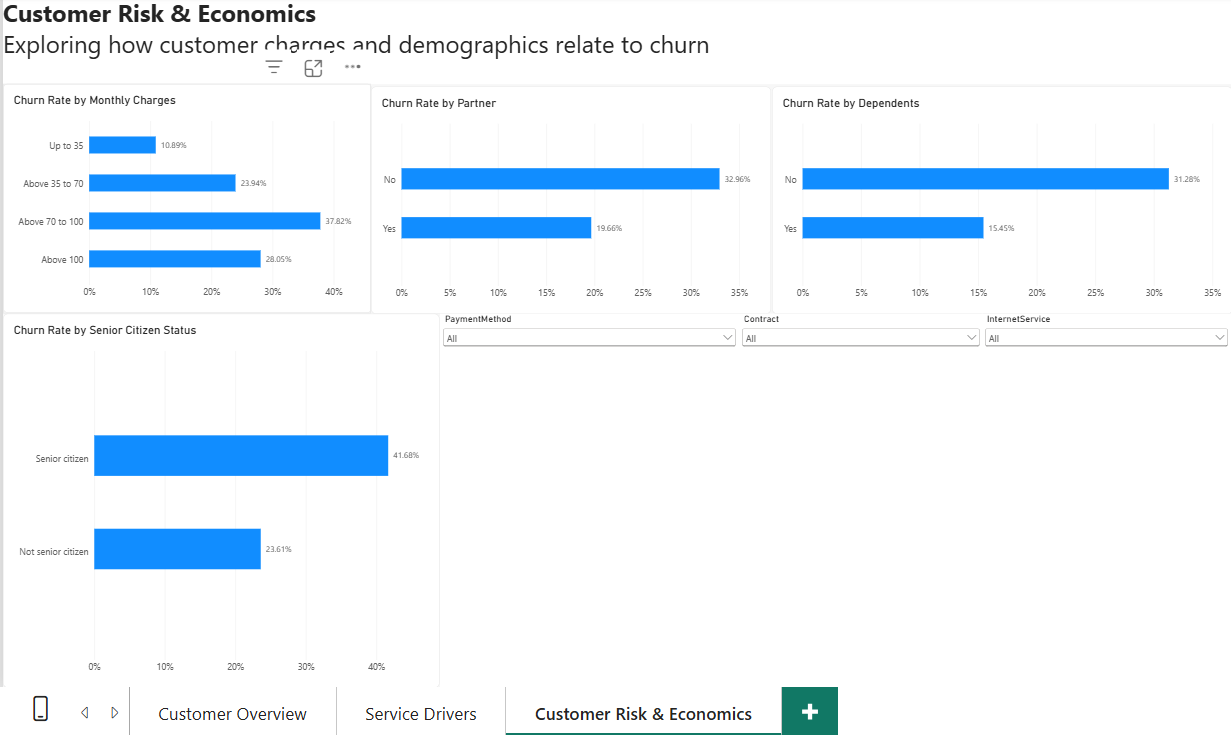

The dashboard page shown, as its layout file describes it:
{"tool":"powerbi","page":{"name":"Customer Risk & Economics","canvas":[1920,1080],"ordinal":2},"visuals":[{"type":"textbox","box":[0,0,1921.1,137.6],"z":0},{"type":"clusteredBarChart","title":"Churn Rate by Monthly Charges","fields":{"Category":["CustomerChurn.Monthly Charge Band"],"Y":["CustomerChurn.Churn Rate"]},"box":[0,137.6,576.4,358.4],"z":1000},{"type":"clusteredBarChart","title":"Churn Rate by Partner","fields":{"Category":["CustomerChurn.Partner"],"Y":["CustomerChurn.Churn Rate"]},"box":[576.4,140.5,625.1,355.6],"z":2000},{"type":"clusteredBarChart","title":"Churn Rate by Dependents","fields":{"Category":["CustomerChurn.Dependents"],"Y":["CustomerChurn.Churn Rate"]},"box":[1201.5,140.5,719.8,355.6],"z":3000},{"type":"clusteredBarChart","title":"Churn Rate by Senior Citizen Status","fields":{"Category":["CustomerChurn.Senior Citizen Status"],"Y":["CustomerChurn.Churn Rate"]},"box":[0,496.1,682.5,585],"z":4000},{"type":"slicer","fields":{"Values":["CustomerChurn.InternetService"]},"box":[1531.3,496.1,390,585],"z":5000},{"type":"slicer","fields":{"Values":["CustomerChurn.Contract"]},"box":[1149.9,496.1,381.4,585],"z":6000},{"type":"slicer","fields":{"Values":["CustomerChurn.PaymentMethod"]},"box":[682.5,496.1,467.4,585],"z":7000}]}

Visuals, with their boxes on the page's 1920x1080 design canvas (x1, y1, x2, y2). These are canvas units, not pixel positions in the 1231x735 screenshot, which may show the page scaled, cropped or inside an application window:
textbox: region(0, 0, 1921, 138)
"Churn Rate by Monthly Charges" clusteredBarChart: region(0, 138, 576, 496)
"Churn Rate by Partner" clusteredBarChart: region(576, 140, 1202, 496)
"Churn Rate by Dependents" clusteredBarChart: region(1202, 140, 1921, 496)
"Churn Rate by Senior Citizen Status" clusteredBarChart: region(0, 496, 682, 1081)
slicer - CustomerChurn.InternetService: region(1531, 496, 1921, 1081)
slicer - CustomerChurn.Contract: region(1150, 496, 1531, 1081)
slicer - CustomerChurn.PaymentMethod: region(682, 496, 1150, 1081)
